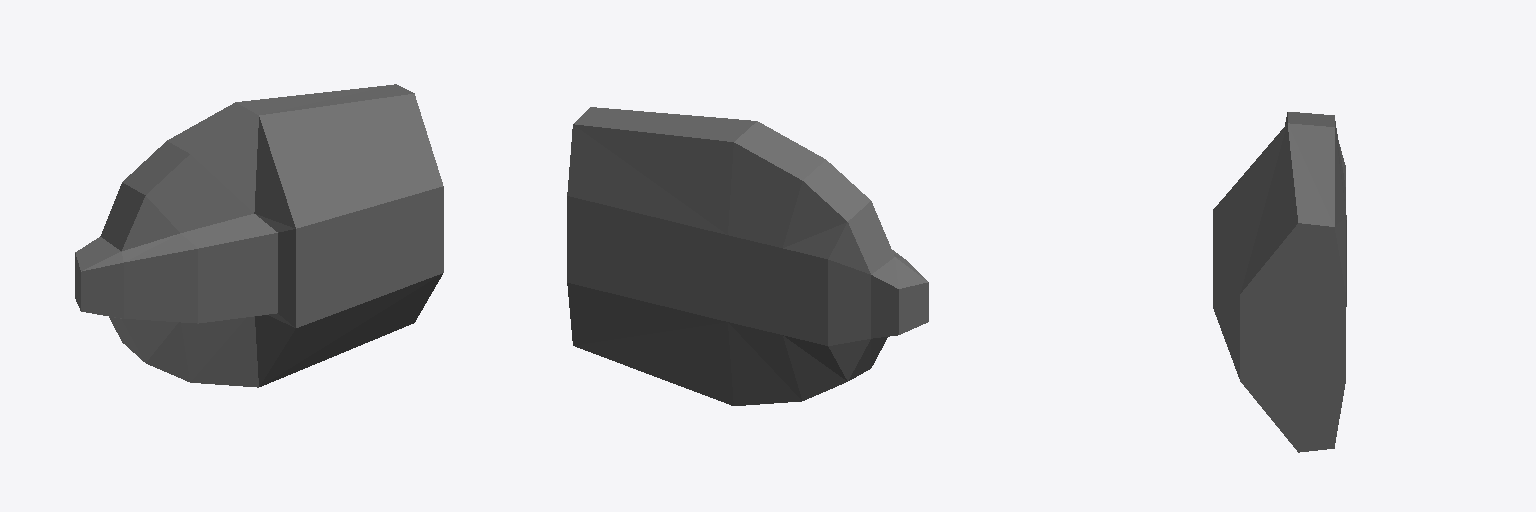
Rendered from virgo.obj.
3 renders of one model, left to right at view 1: azimuth 30°, elevation 25°; view 2: azimuth 150°, elevation 25°; view 3: azimuth 270°, elevation 25°, orthographic.
Visible parts, largest first — view 1: Box002_Untitled.002; view 2: Box002_Untitled.002; view 3: Box002_Untitled.002.
Part boxes in pixels (bbox=[...]): Box002_Untitled.002: bbox=[75, 84, 443, 387]; Box002_Untitled.002: bbox=[567, 107, 928, 405]; Box002_Untitled.002: bbox=[1213, 112, 1346, 452].
Size of the model in its own units: 1.46 by 1.13 by 0.4997.